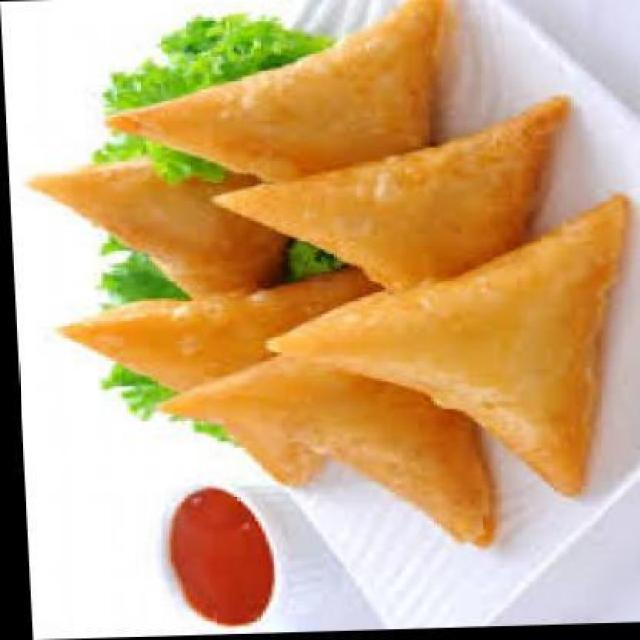samosa: (258, 197, 640, 506), (49, 268, 388, 490), (208, 98, 577, 294), (151, 351, 491, 555), (95, 0, 454, 189), (23, 153, 294, 304)
